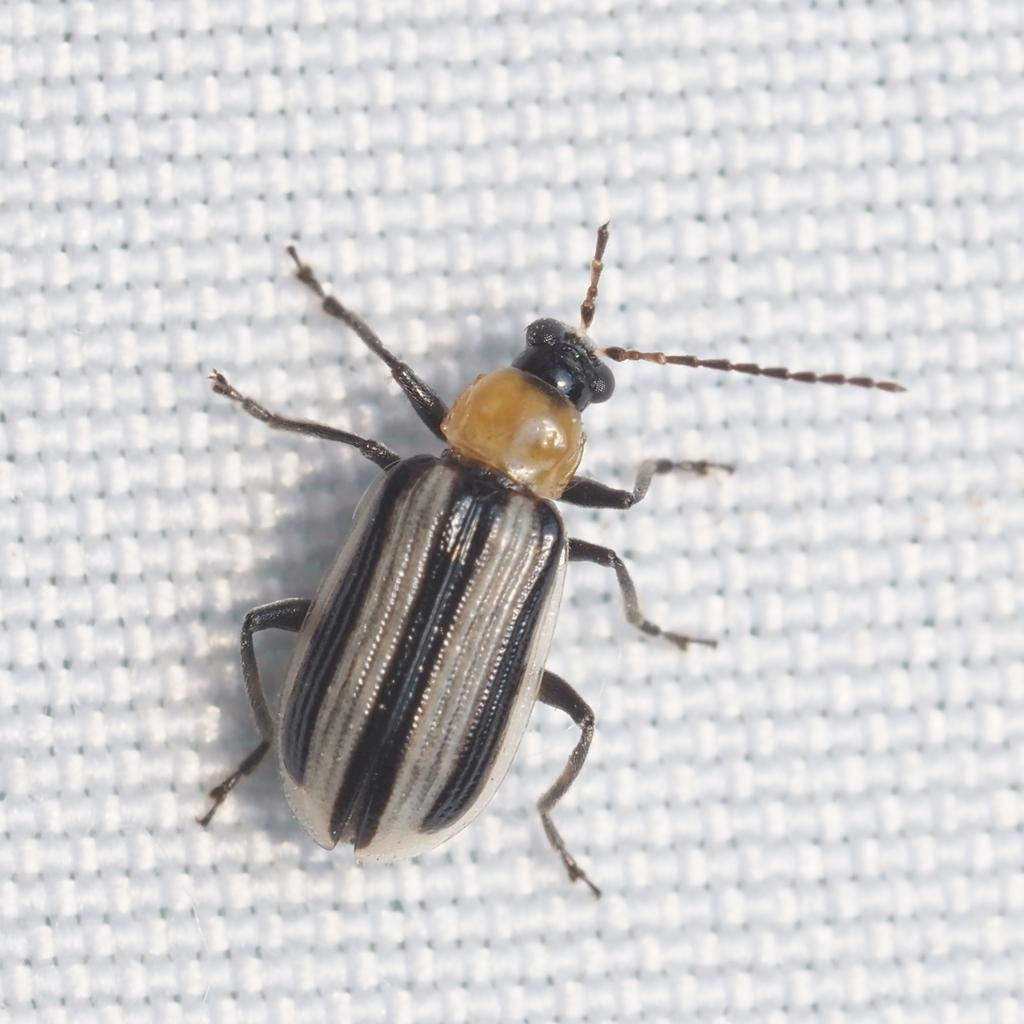potato_beetle: (80, 124, 951, 979)
